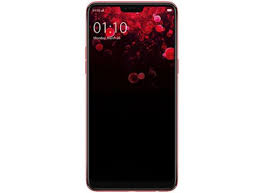oppo: (84, 1, 178, 193)
